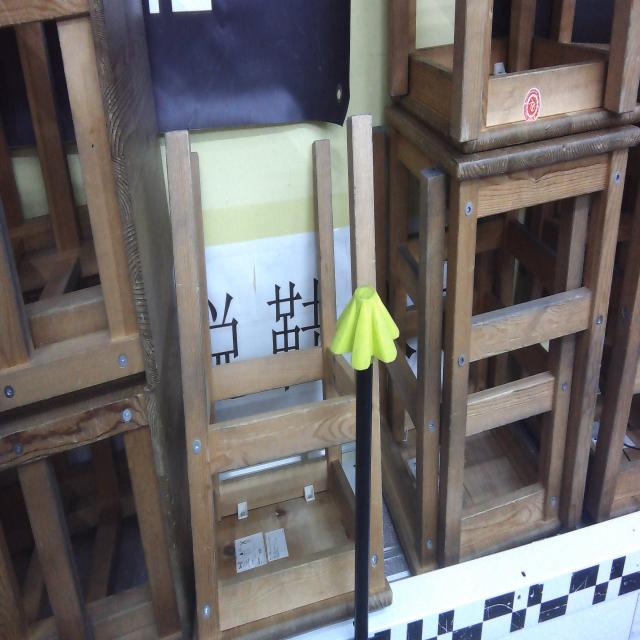Yellow-Stake-Head: (330, 286, 400, 370)
